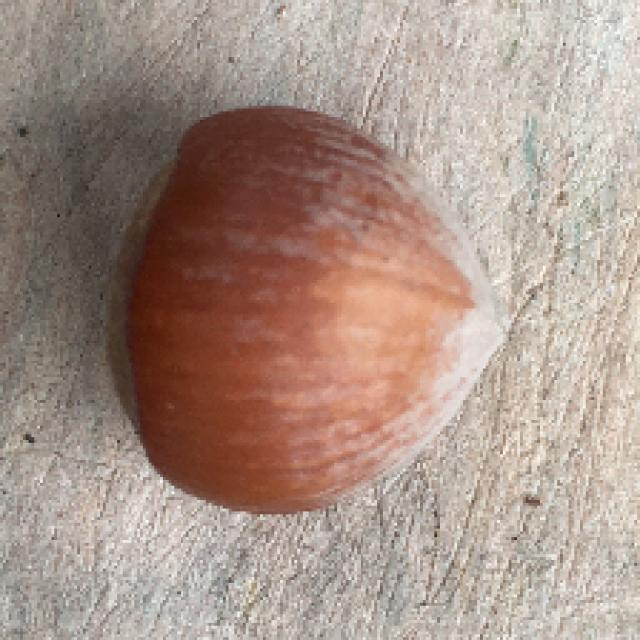QualityHazelnut: (98, 100, 517, 521)
